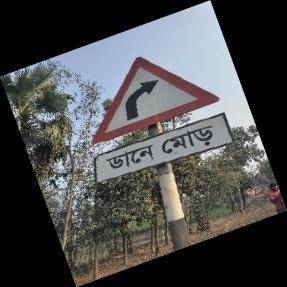Right-turn: (93, 57, 231, 182)
